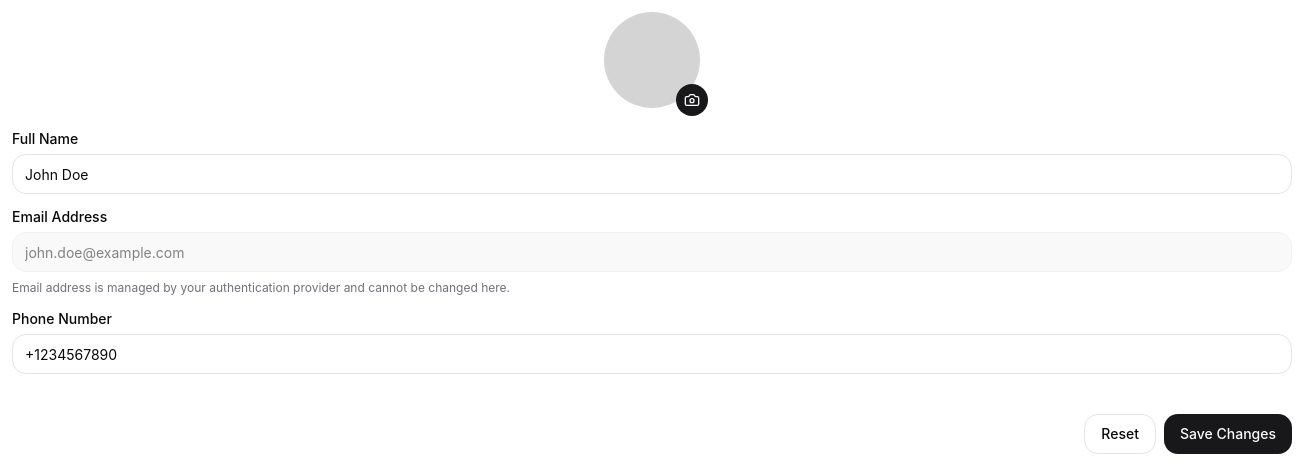
Scenario: UserSettingsForm › Form Interactions › should reset form when reset button is clicked
This screenshot has width=1304, height=471.
Change form values
Step 1. Replace the text in the field showing "John Doe" with "Changed Name" → [652, 174], box [12,154,1292,194]
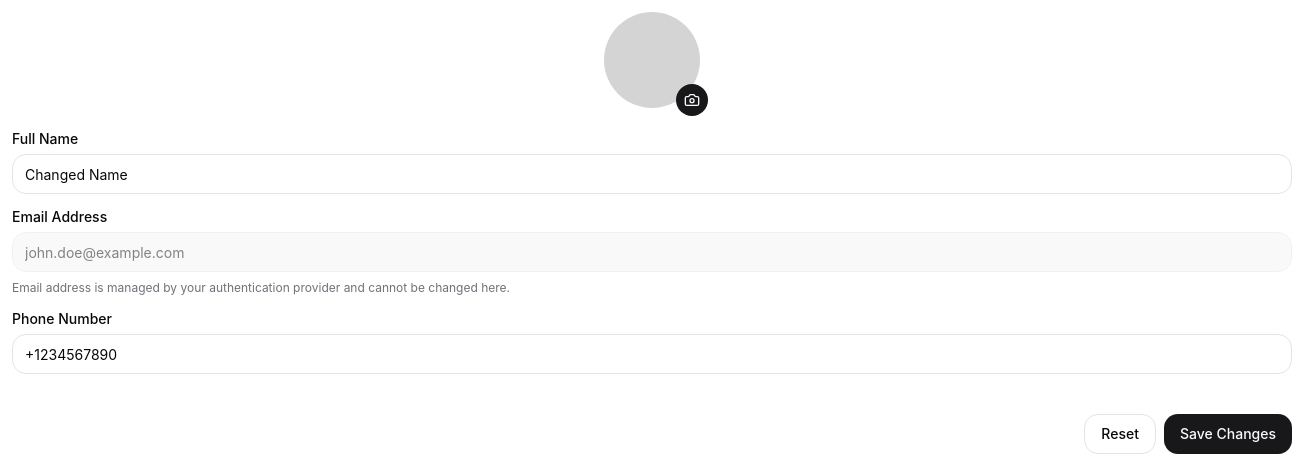
Click reset
Step 2. Click the button "Reset" → [1120, 434], box [1084,414,1156,454]
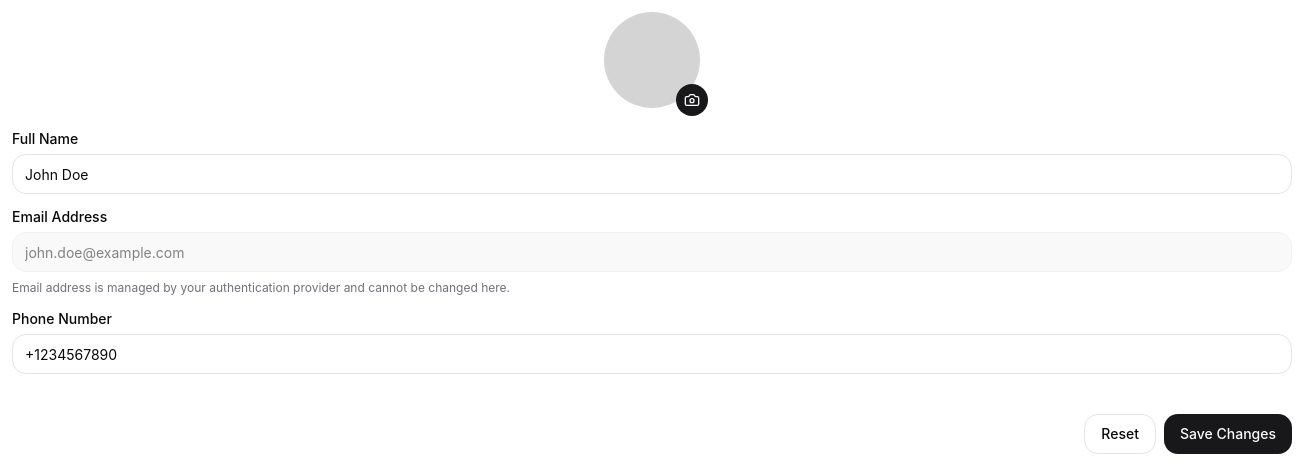
Result: the field showing "John Doe" is shown at [12,154,1292,194]
